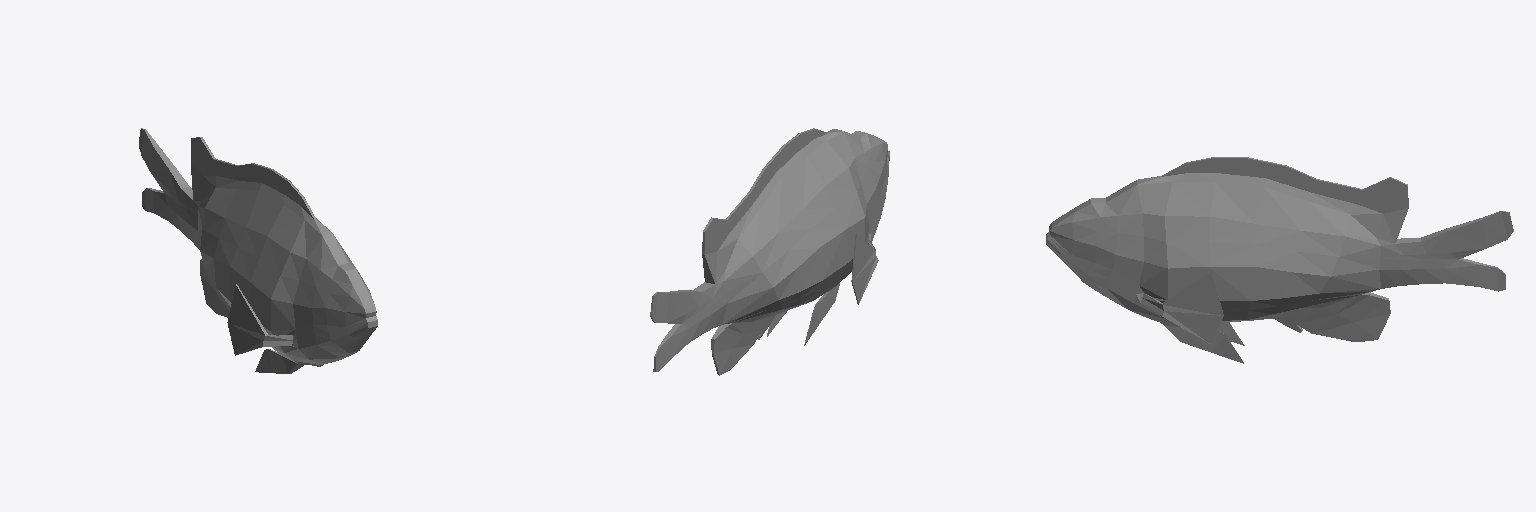
File: TropicalFish07.obj
3 views of the same model, side by side, from view 1: azimuth 30°, elevation 25°; view 2: azimuth 150°, elevation 25°; view 3: azimuth 270°, elevation 25° (orthographic).
Visible parts, largest first — view 1: TropicalFish07; view 2: TropicalFish07; view 3: TropicalFish07.
Boxes of the visible parts, x1=… form: TropicalFish07: x1=139, y1=128, x2=377, y2=373; TropicalFish07: x1=650, y1=128, x2=889, y2=375; TropicalFish07: x1=1046, y1=157, x2=1513, y2=363.
Bounding box in the file's own units: 2.05 × 3.42 × 7.33.